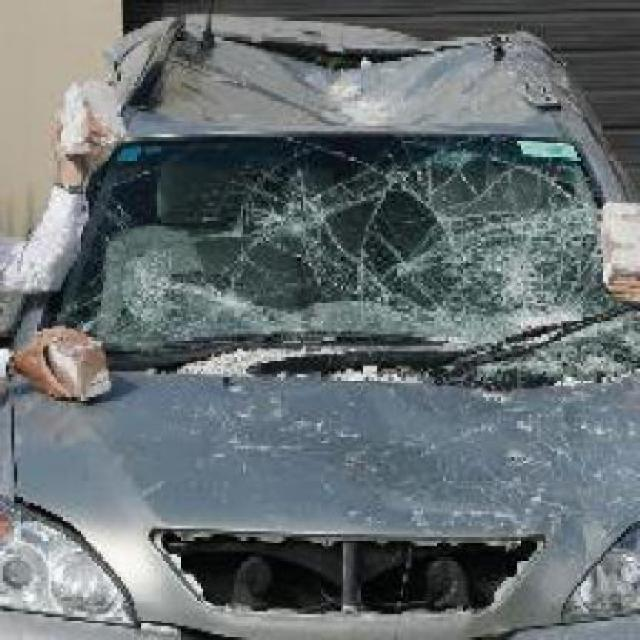damaged-windscreen: (45, 130, 638, 367)
